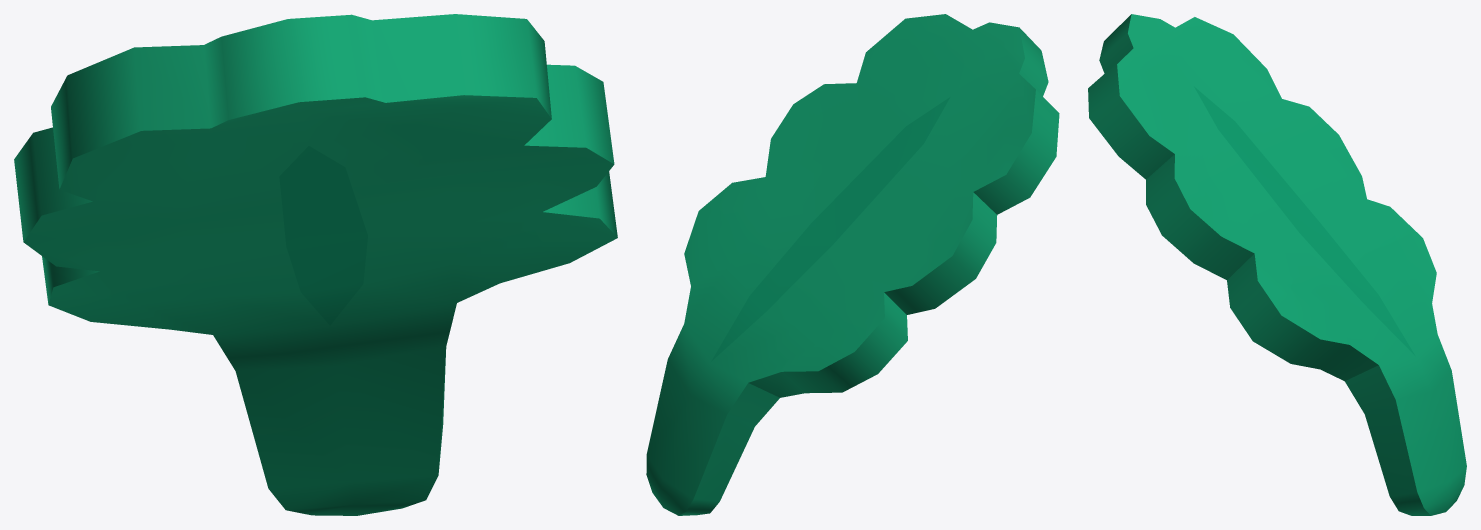
Rendered from CarrotLeaf3.fbx.
3 views of the same model, side by side, from view 1: azimuth 30°, elevation 25°; view 2: azimuth 150°, elevation 25°; view 3: azimuth 270°, elevation 25° (orthographic). The views are drawn at different scales.
Parts seen in each view (by area): view 1: CarrotPlant2A_Leaf3; view 2: CarrotPlant2A_Leaf3; view 3: CarrotPlant2A_Leaf3.
Part boxes in pixels (x1,y1,x2,y2): CarrotPlant2A_Leaf3: (14, 14, 617, 515); CarrotPlant2A_Leaf3: (646, 14, 1059, 515); CarrotPlant2A_Leaf3: (1088, 14, 1466, 515).
Size of the model in its own units: 11.4 by 14.2 by 11.91.
